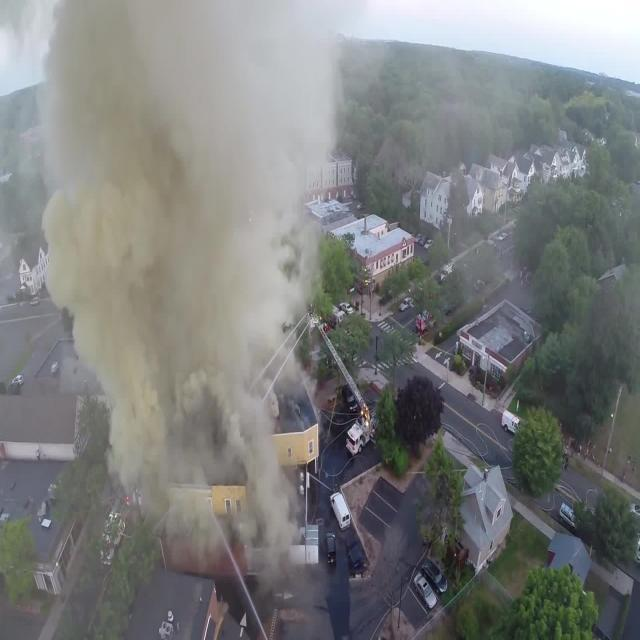Smoke: (15, 1, 329, 522)
